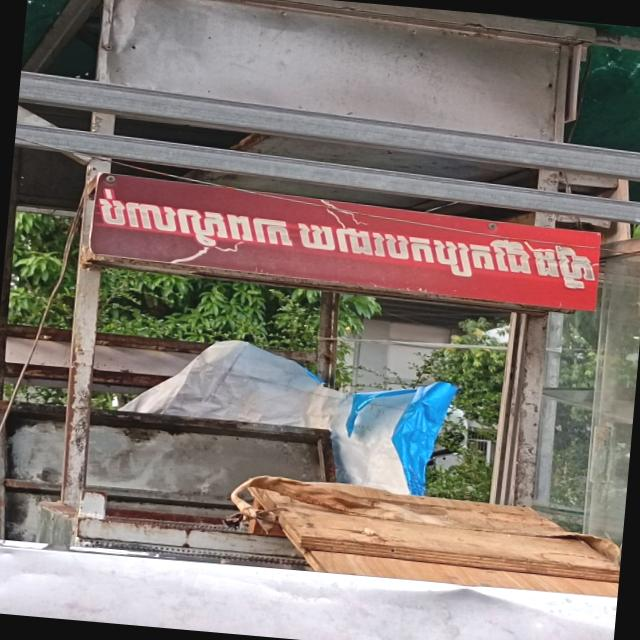Yolov11_80vkh: (92, 179, 603, 293)
